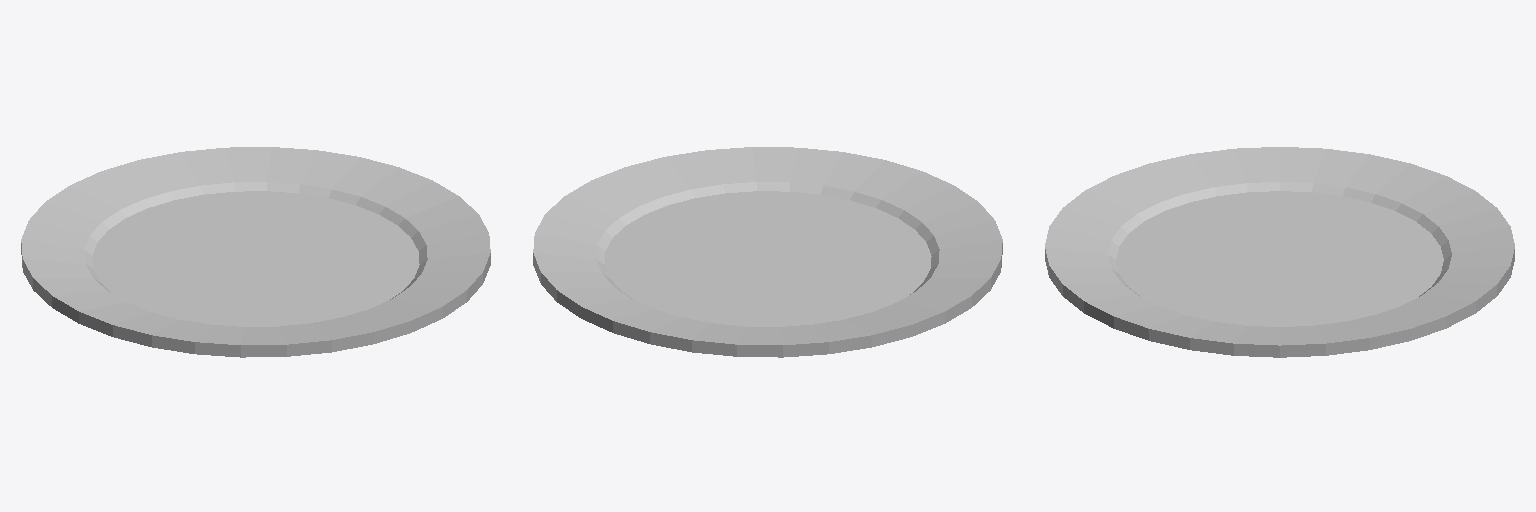
Rendered from dish.obj.
3 views of the same model, side by side, from view 1: azimuth 30°, elevation 25°; view 2: azimuth 150°, elevation 25°; view 3: azimuth 270°, elevation 25° (orthographic).
Parts seen in each view (by area): view 1: Cylinder; view 2: Cylinder; view 3: Cylinder.
Boxes of the visible parts, <box> form: Cylinder: <box>21,147,490,357</box>; Cylinder: <box>533,147,1002,357</box>; Cylinder: <box>1045,147,1514,357</box>.
Size of the model in its own units: 2 by 0.0924 by 2.